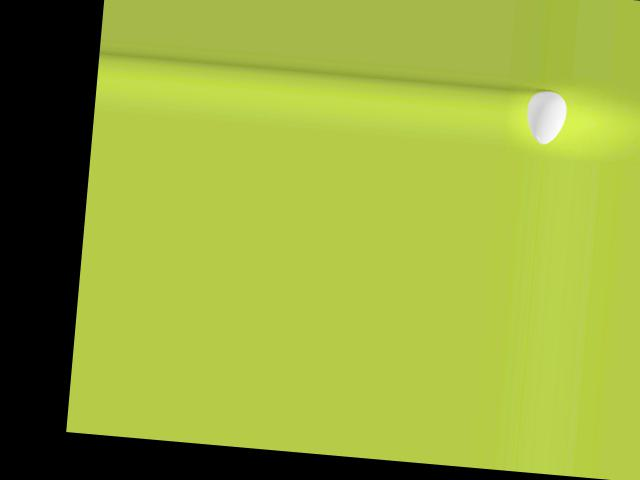egg: (524, 89, 567, 146)
